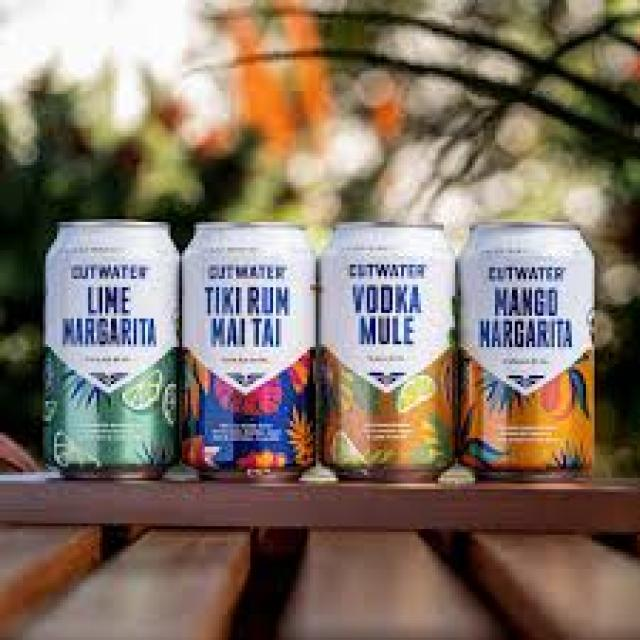Cans: (446, 210, 606, 480), (313, 214, 464, 484), (34, 213, 185, 481), (176, 210, 318, 490)
